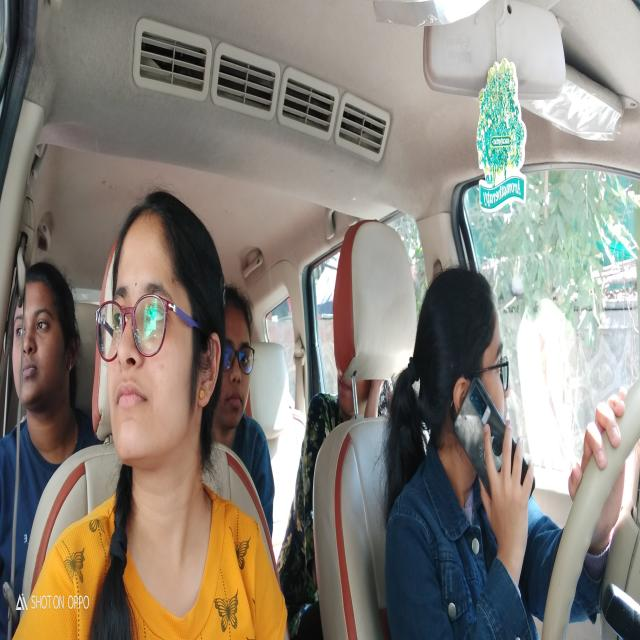mobile: (450, 390, 539, 503)
person: (110, 221, 224, 462), (420, 262, 514, 480), (9, 270, 79, 410), (216, 272, 256, 434), (332, 365, 388, 422)
